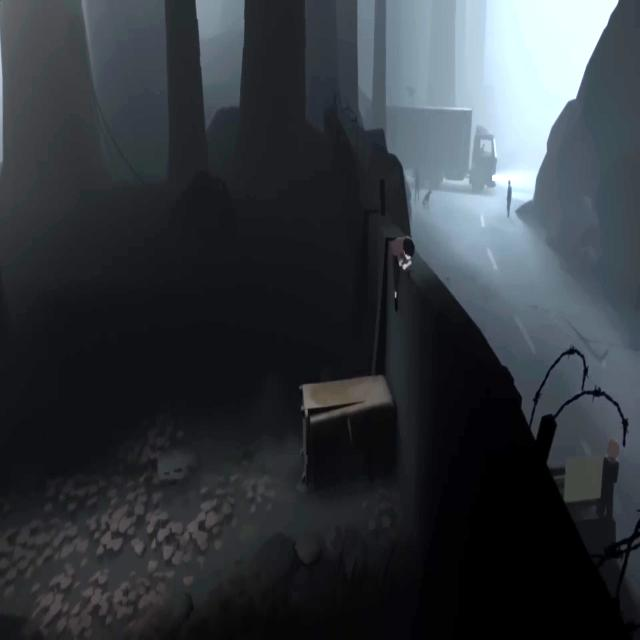boy: (392, 236, 414, 312)
dog: (422, 189, 432, 207)
human: (506, 180, 512, 217), (415, 165, 419, 200)
